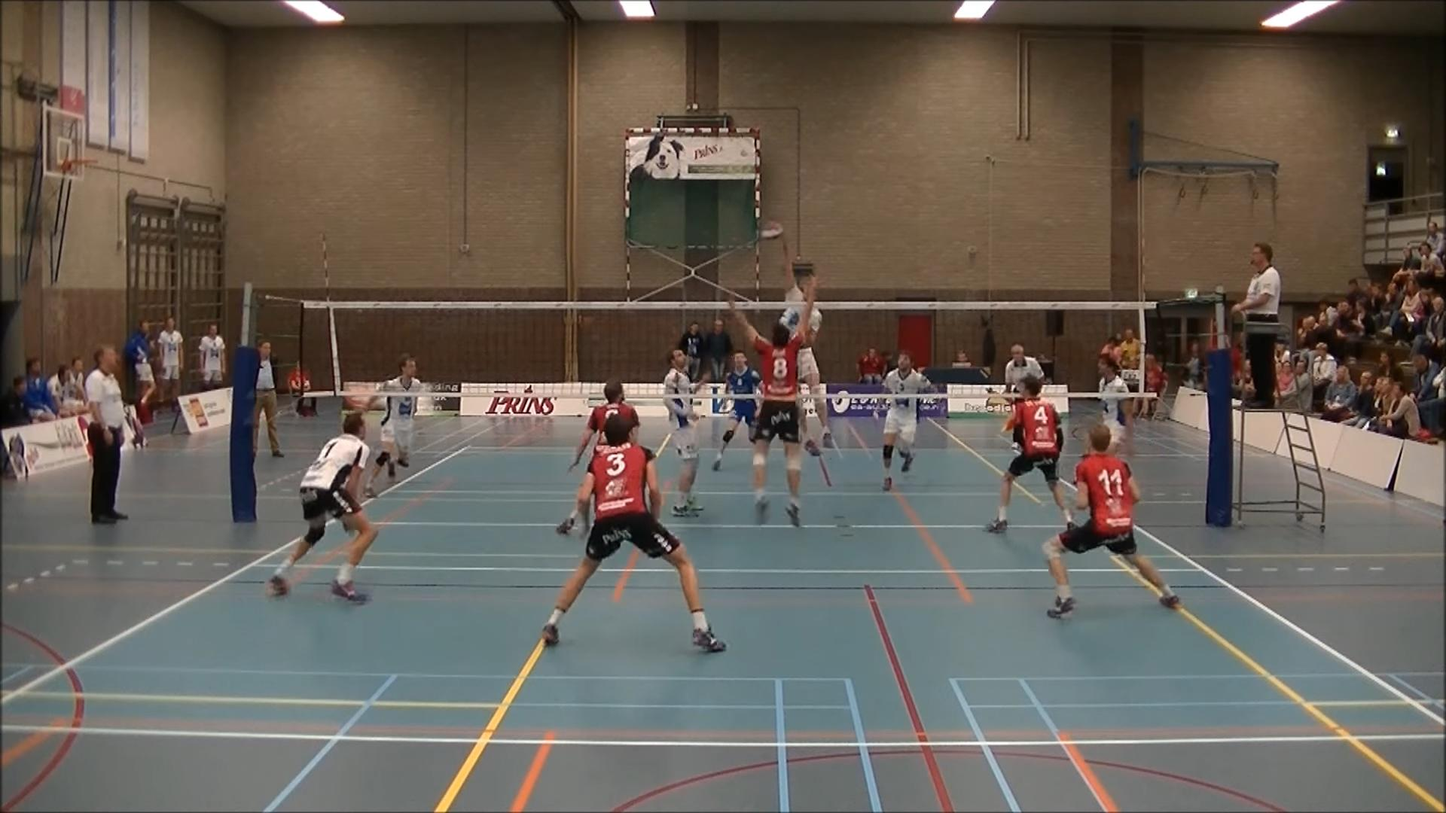Attack: (756, 211, 835, 452)
Block: (718, 277, 828, 526)
Player: (543, 416, 725, 651), (1044, 425, 1180, 618), (268, 412, 377, 602), (985, 376, 1073, 532), (366, 354, 426, 498), (663, 349, 706, 516), (882, 351, 932, 490), (569, 381, 639, 470), (712, 352, 761, 470)
ball: (752, 214, 787, 247)
